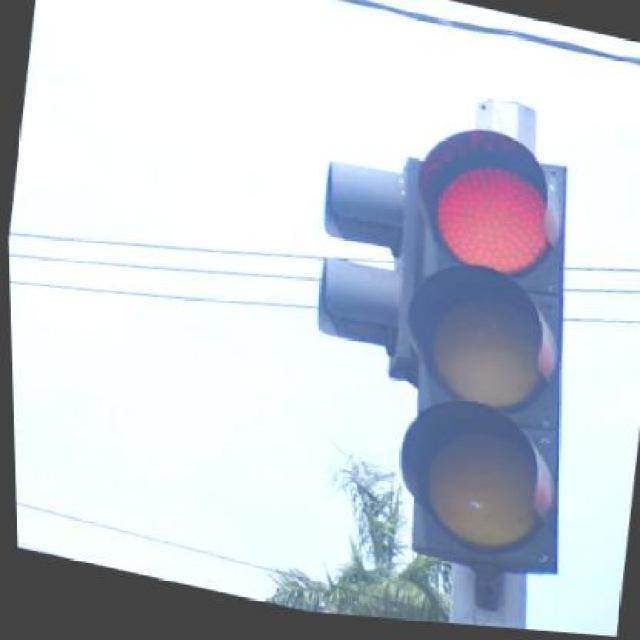red_light: (380, 99, 563, 625)
